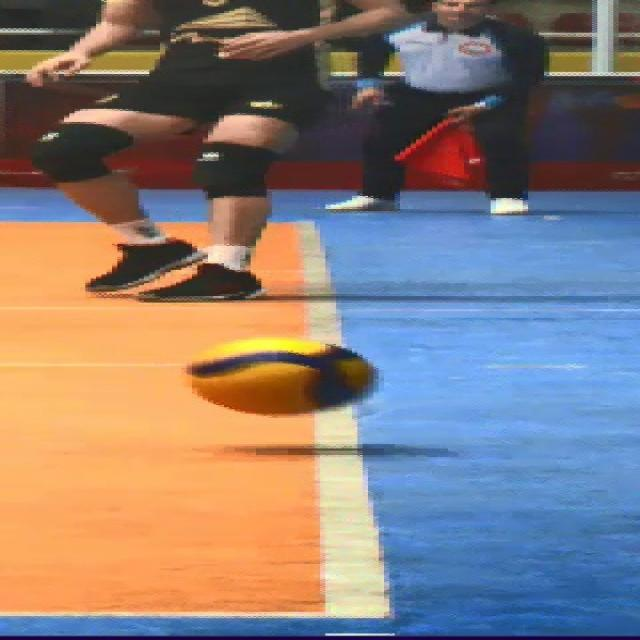Volleyball: (192, 338, 374, 413)
